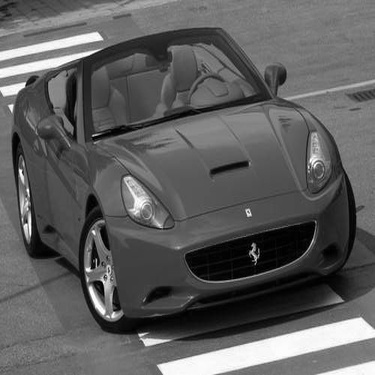car: (3, 21, 361, 334)
